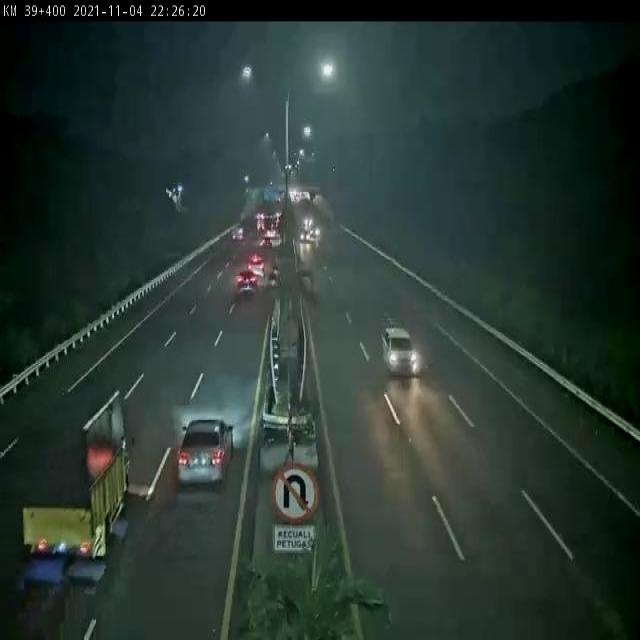Car: (170, 414, 238, 497), (379, 319, 422, 386), (236, 268, 260, 304), (248, 249, 265, 274), (300, 226, 312, 245)
Truck: (7, 378, 139, 583)
